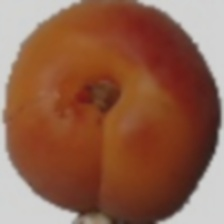apricot: (14, 28, 187, 190)
